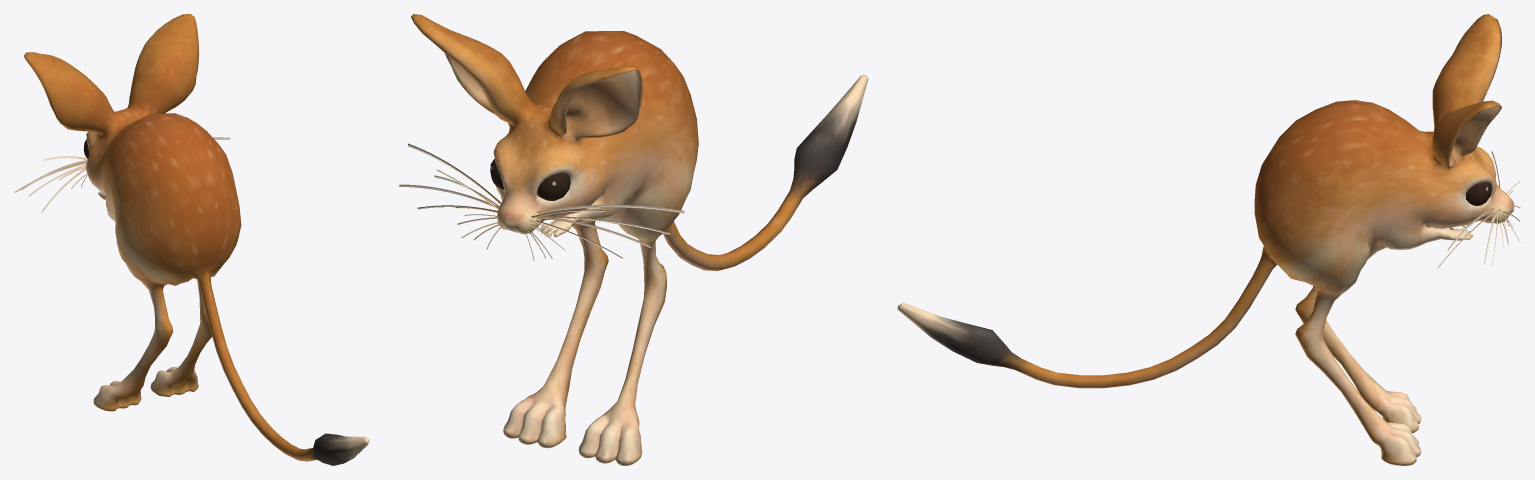
File: jerboa.fbx
3 renders of one model, left to right at view 1: azimuth 30°, elevation 25°; view 2: azimuth 150°, elevation 25°; view 3: azimuth 270°, elevation 25°, orthographic. The views are drawn at different scales.
Parts seen in each view (by area): view 1: Plane.001, NurbsPath.001; view 2: Plane.001, NurbsPath.001; view 3: Plane.001, NurbsPath.001.
Boxes of the visible parts, box(x1,y1,x2,y2) form: Plane.001: box(24, 14, 369, 465); NurbsPath.001: box(14, 137, 230, 212); Plane.001: box(411, 14, 868, 465); NurbsPath.001: box(398, 143, 685, 260); Plane.001: box(897, 14, 1514, 465); NurbsPath.001: box(1437, 151, 1520, 268).
Bounding box in the file's own units: 38.18 × 58.05 × 86.41.
